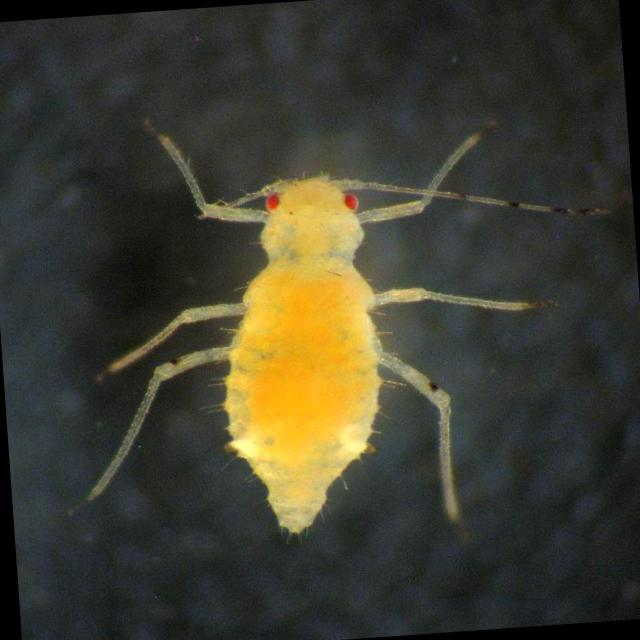Aphids: (46, 110, 578, 546)
